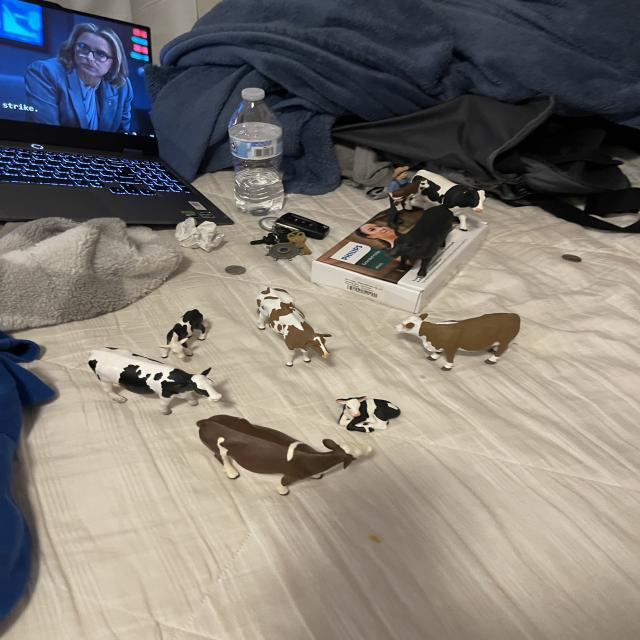cow: (186, 408, 359, 509), (81, 344, 227, 425), (238, 279, 341, 382), (396, 313, 520, 371), (386, 193, 464, 278), (408, 167, 489, 219), (154, 304, 216, 371), (336, 395, 401, 434), (389, 173, 430, 206)
person: (380, 163, 415, 194)
